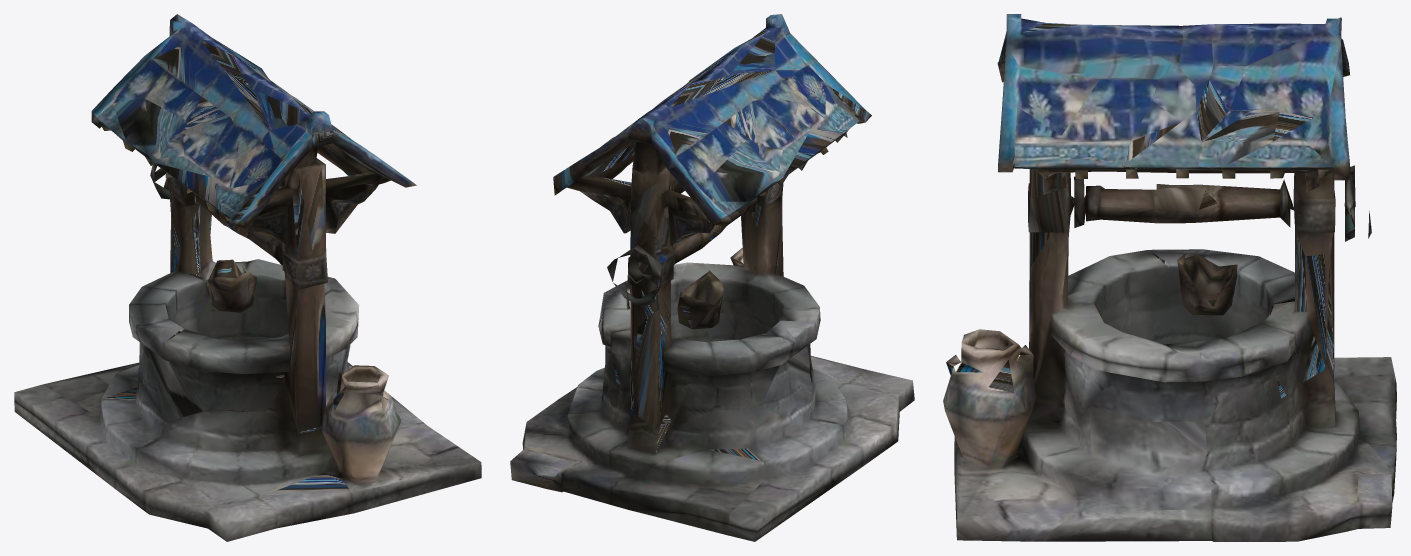
The model's file is well_stone.glb.
3 renders of one model, left to right at view 1: azimuth 30°, elevation 25°; view 2: azimuth 150°, elevation 25°; view 3: azimuth 270°, elevation 25°, orthographic. The views are drawn at different scales.
Parts seen in each view (by area): view 1: tripo_node_de0b2155-e343-4f17-98cc-6b145627fc5e; view 2: tripo_node_de0b2155-e343-4f17-98cc-6b145627fc5e; view 3: tripo_node_de0b2155-e343-4f17-98cc-6b145627fc5e.
Boxes of the visible parts, left/top/right/bottom form: tripo_node_de0b2155-e343-4f17-98cc-6b145627fc5e: left=14, top=14, right=481, bottom=541; tripo_node_de0b2155-e343-4f17-98cc-6b145627fc5e: left=510, top=14, right=914, bottom=541; tripo_node_de0b2155-e343-4f17-98cc-6b145627fc5e: left=943, top=14, right=1396, bottom=541.
Size of the model in its own units: 0.7646 by 0.9803 by 0.8967.
1 material, 1 textured.
